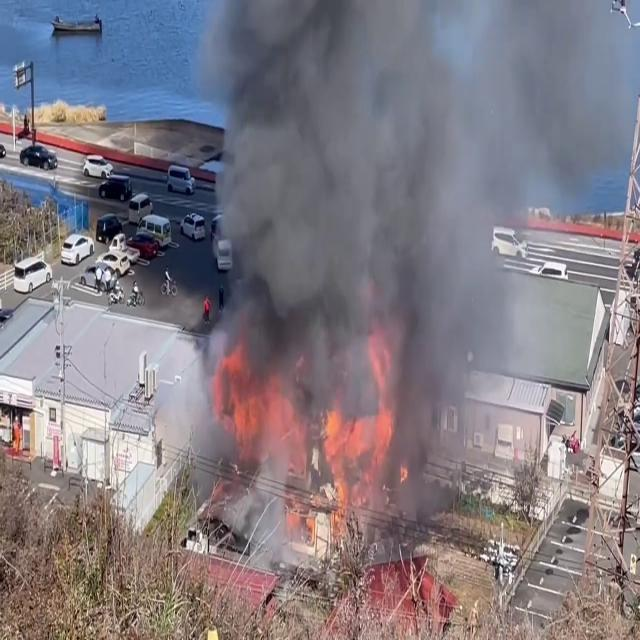Fire: (314, 379, 393, 543), (204, 338, 278, 454)
Smoke: (189, 0, 637, 543)
